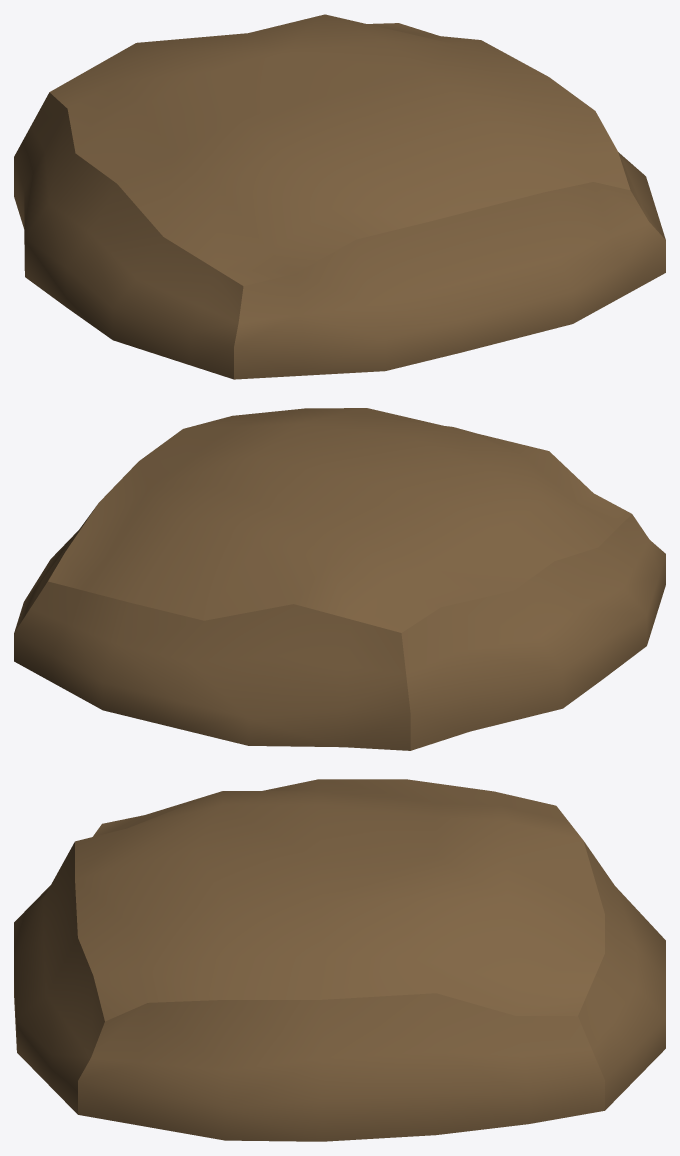
The model's file is DirtModel.fbx.
3 views of the same model, one above another, from view 1: azimuth 30°, elevation 25°; view 2: azimuth 150°, elevation 25°; view 3: azimuth 270°, elevation 25° (orthographic). The views are drawn at different scales.
Parts seen in each view (by area): view 1: Dirt; view 2: Dirt; view 3: Dirt.
Part boxes in pixels (x1,y1,x2,y2): Dirt: (14, 14, 665, 379); Dirt: (14, 408, 665, 750); Dirt: (14, 779, 665, 1141).
Bounding box in the file's own units: 1.63 × 0.4262 × 1.65.
